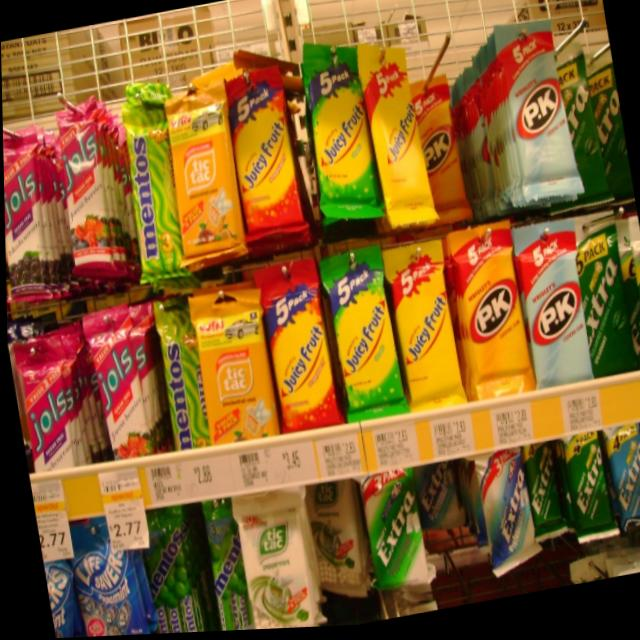q268: (221, 477, 323, 633)
